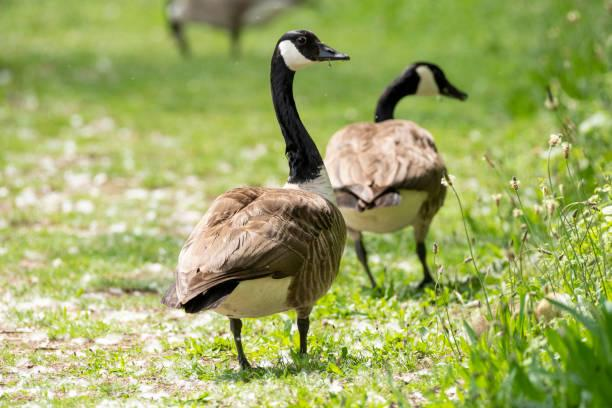Canadian-Goose: (161, 30, 350, 368), (327, 60, 471, 296)
